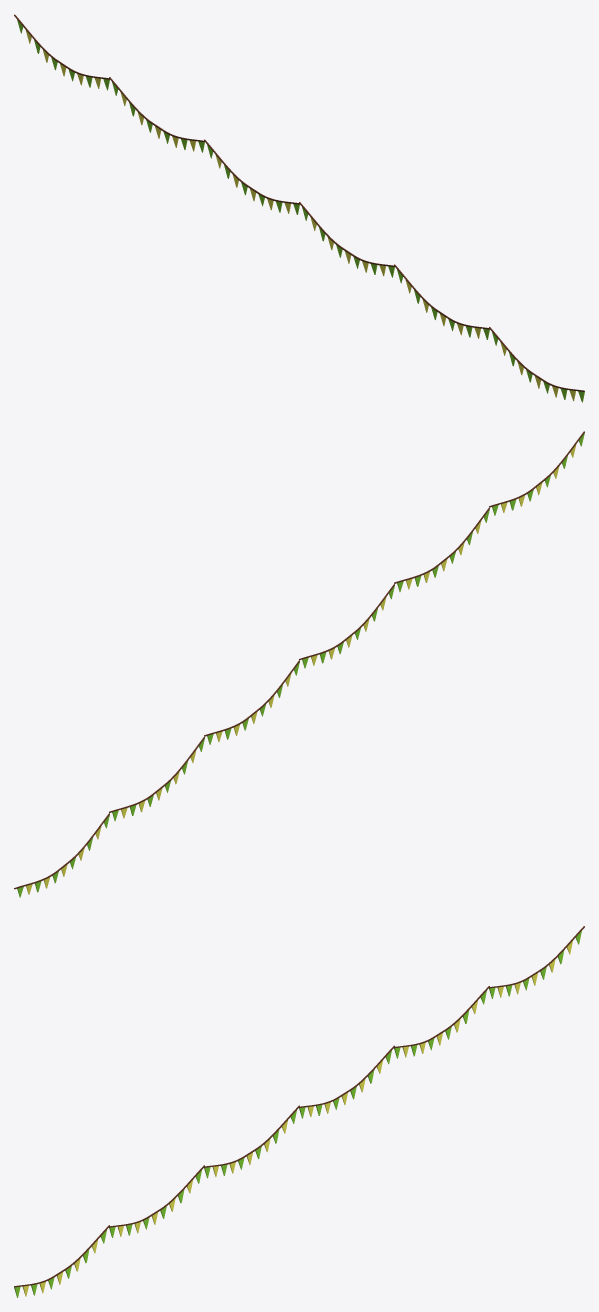
The model's file is FlagGreenYellow.fbx.
3 renders of one model, top to bottom at view 1: azimuth 30°, elevation 25°; view 2: azimuth 150°, elevation 25°; view 3: azimuth 330°, elevation 25°, orthographic. The views are drawn at different scales.
Parts seen in each view (by area): view 1: Cube.006; view 2: Cube.006; view 3: Cube.006.
Part boxes in pixels (x1,y1,x2,y2): Cube.006: (14, 14, 584, 402); Cube.006: (14, 431, 584, 897); Cube.006: (14, 926, 584, 1297).
Size of the model in its own units: 31.87 by 220 by 3082.
